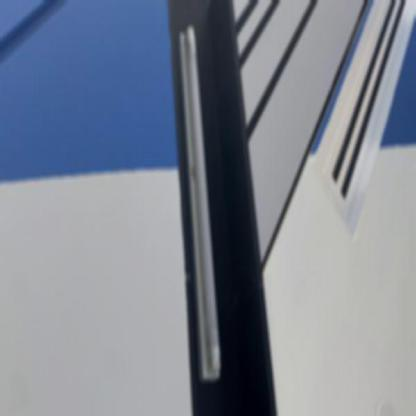light_off: (169, 18, 231, 386)
